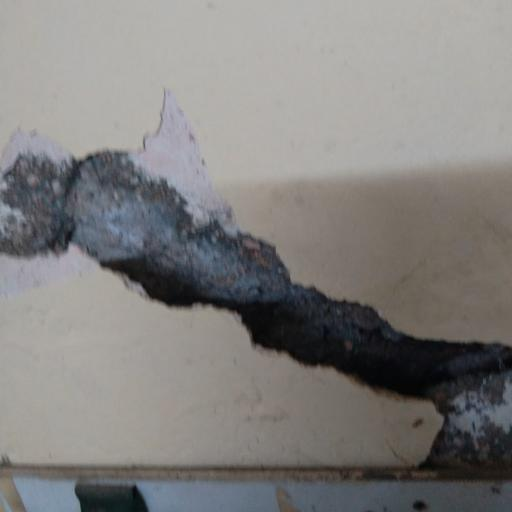spalling: (1, 89, 512, 472)
